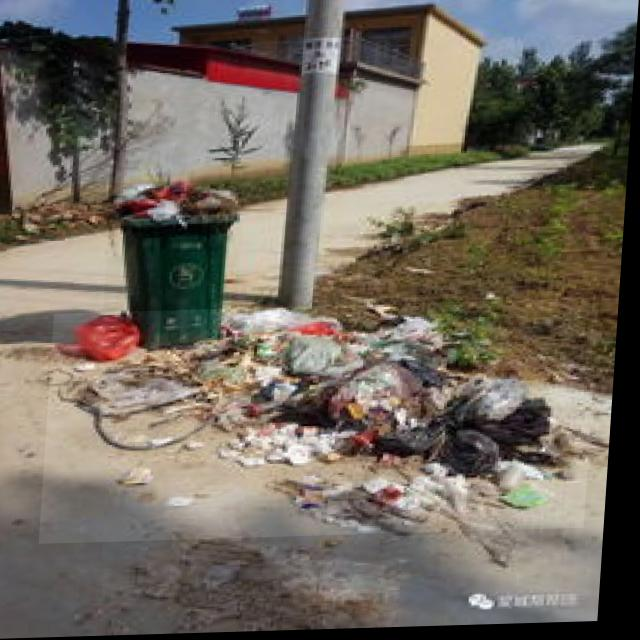garbage: (46, 302, 603, 545)
overflow: (105, 181, 248, 355)
